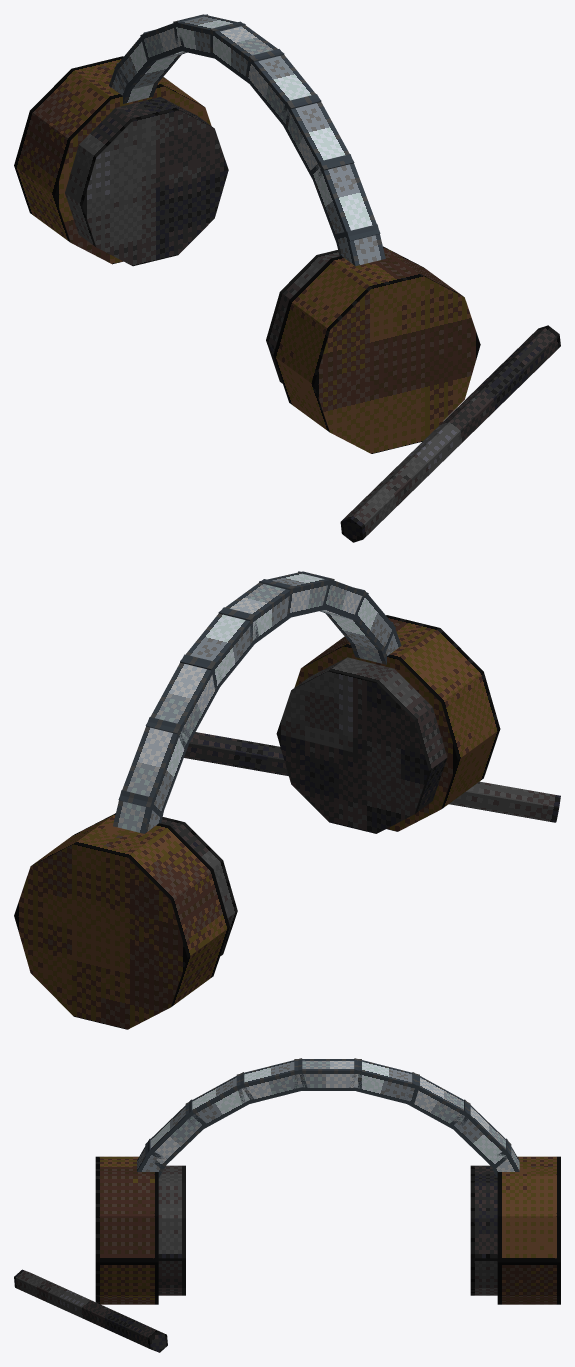
File: SM_Headphones_01.glb
3 renders of one model, top to bottom at view 1: azimuth 30°, elevation 25°; view 2: azimuth 150°, elevation 25°; view 3: azimuth 270°, elevation 25°, orthographic. The views are drawn at different scales.
Parts seen in each view (by area): view 1: SM_Headphones_01; view 2: SM_Headphones_01; view 3: SM_Headphones_01.
Part boxes in pixels (left/top/right/bottom): SM_Headphones_01: left=14, top=14, right=560, bottom=542; SM_Headphones_01: left=14, top=571, right=560, bottom=1029; SM_Headphones_01: left=14, top=1058, right=560, bottom=1352.
Bounding box in the file's own units: 0.1179 × 0.1277 × 0.2421.
1 material, 1 textured.
